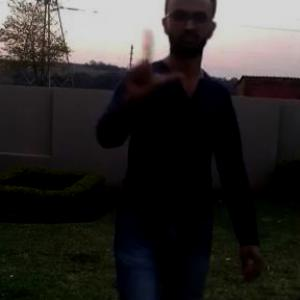land_hand: (118, 20, 184, 111)
